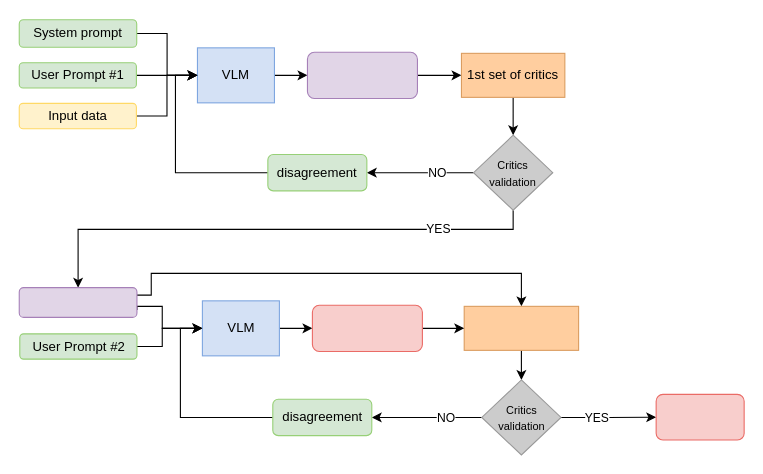
The diagram is 763 pixels wide and 474 high, and some of its shapes have lost their labels. The centre of each missing label's shape, as x and y in pixels:
"2nd set of critics" goes at (x=521, y=327).
"Anomaly classification" goes at (x=699, y=416).
"Proposed anomaly classification" goes at (x=366, y=327).
"proposed scene description" goes at (x=361, y=74).
"Scene description" goes at (x=77, y=302).
